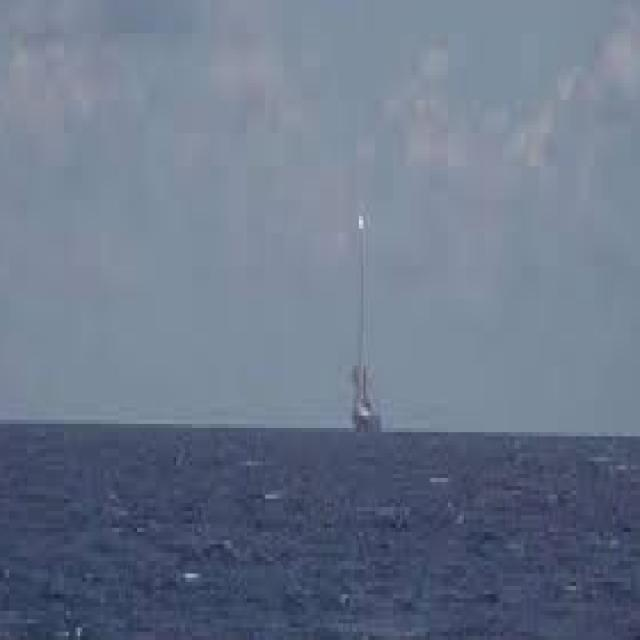fishing boat: (334, 232, 390, 442)
